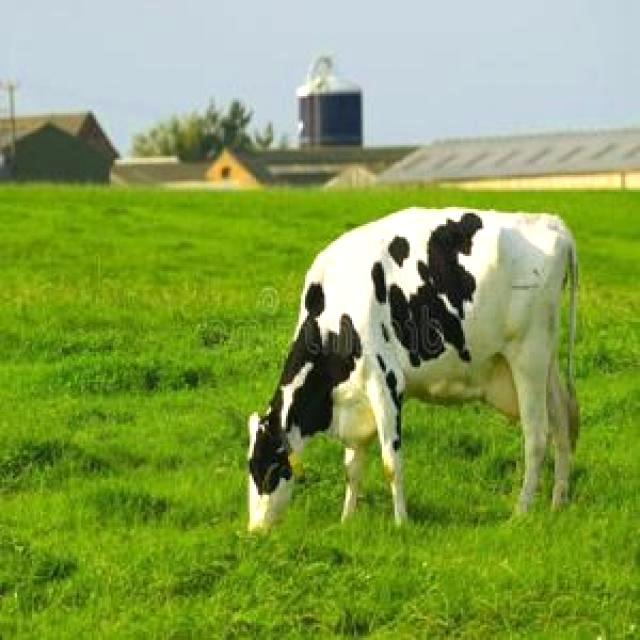COW: (249, 208, 578, 528)
